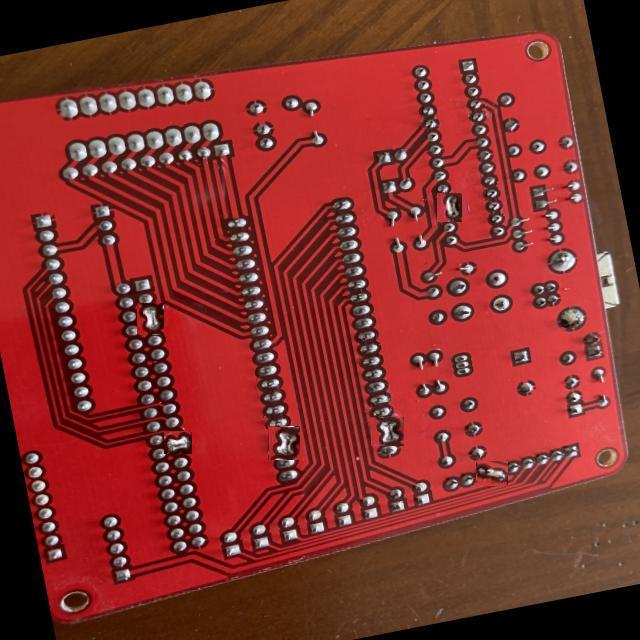damged: (268, 426, 300, 460), (370, 416, 404, 446), (138, 303, 166, 335), (476, 460, 508, 486), (437, 192, 462, 222), (165, 429, 191, 455)
